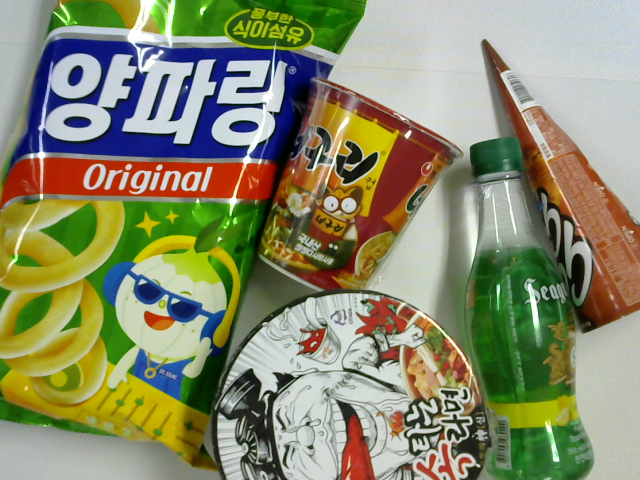GooGoo_Cone_CVS: (481, 38, 640, 331)
HeJangsock: (213, 288, 491, 480)
Oninon_Ring: (1, 1, 376, 467)
Seagram_Lemon_Carbonated_Water: (463, 134, 597, 480)
